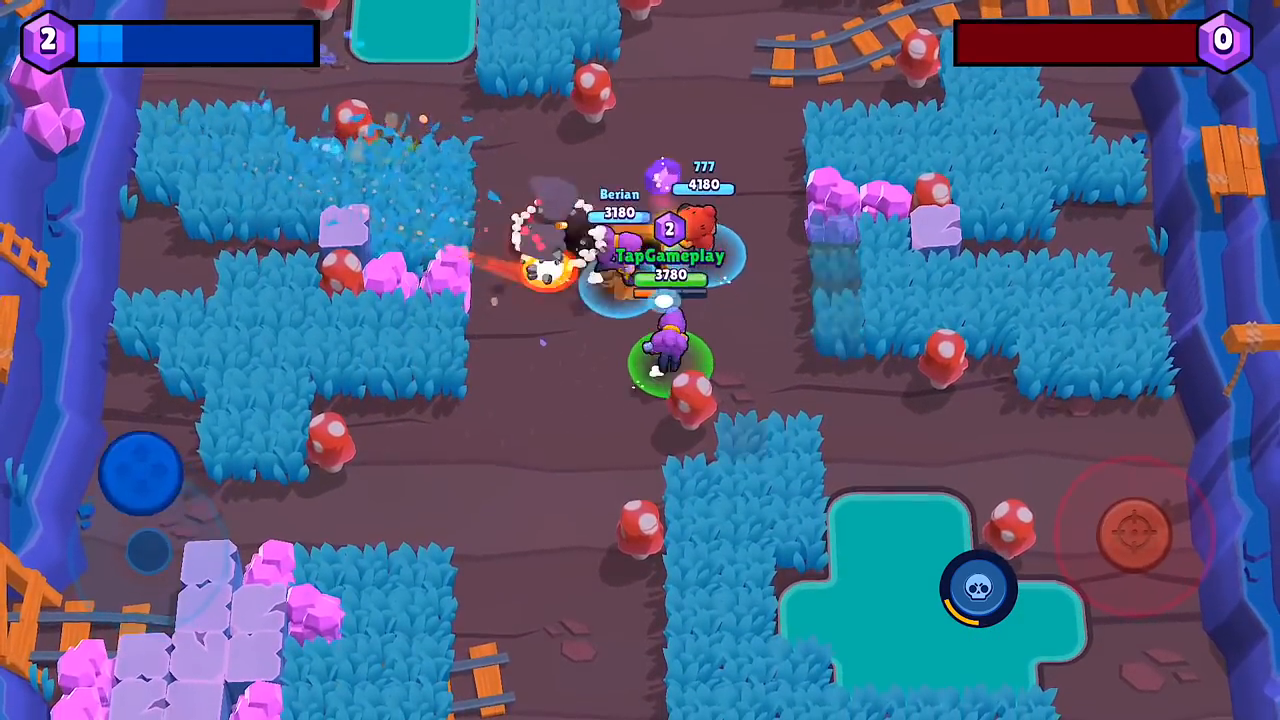move_stick: (109, 432, 182, 515)
